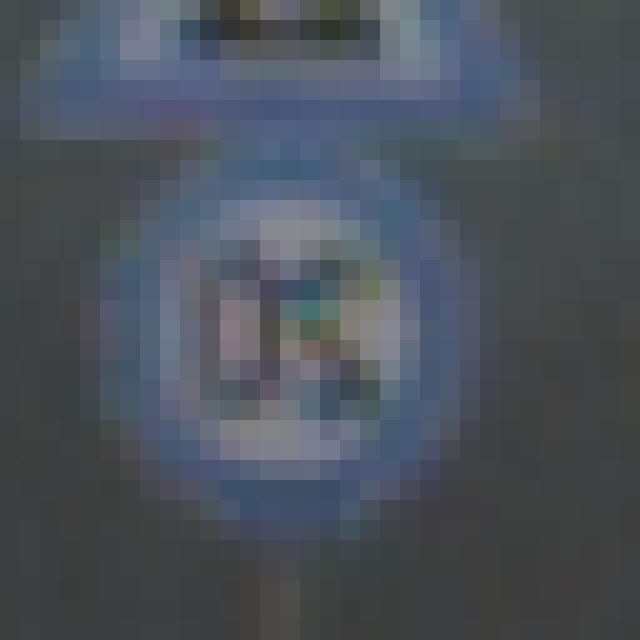SPEED LIMIT 20: (92, 141, 468, 479)
